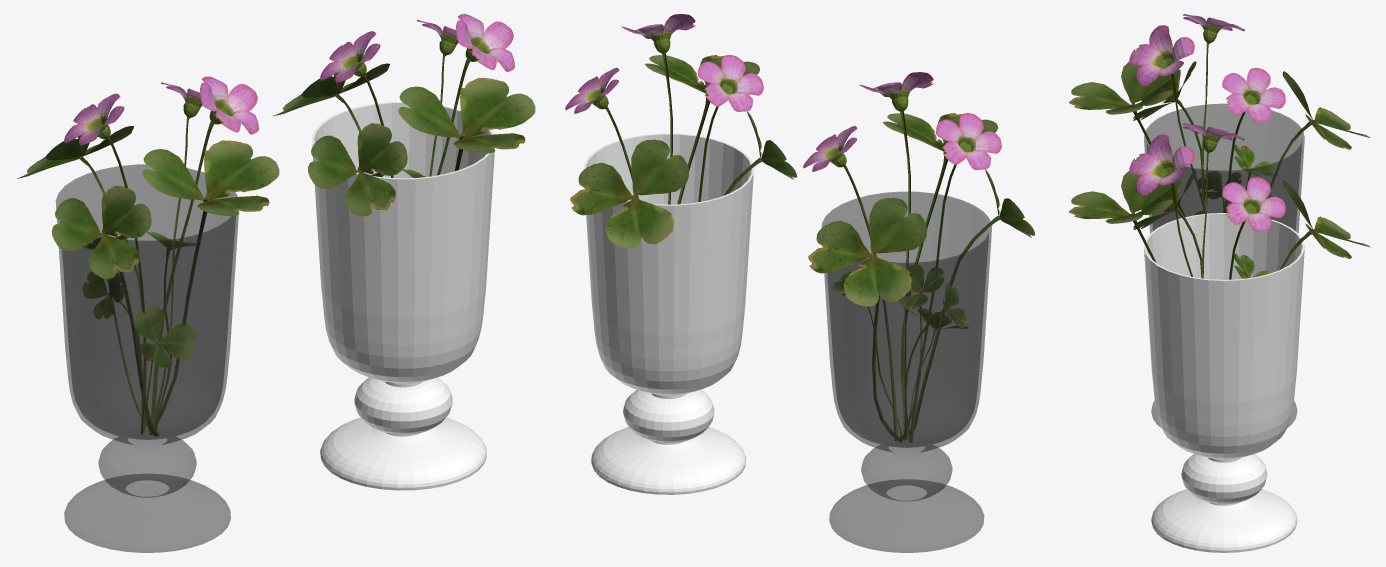
Rendered from GlassVaseFlowers.obj.
3 views of the same model, side by side, from view 1: azimuth 30°, elevation 25°; view 2: azimuth 150°, elevation 25°; view 3: azimuth 270°, elevation 25° (orthographic). The views are drawn at different scales.
Parts seen in each view (by area): view 1: GlassTransmission, GlassAlpha, Flowers; view 2: GlassTransmission, GlassAlpha, Flowers; view 3: GlassTransmission, Flowers, GlassAlpha.
Boxes of the visible parts, x1=… form: GlassTransmission: x1=311, y1=102, x2=494, y2=490; GlassAlpha: x1=55, y1=164, x2=238, y2=552; Flowers: x1=17, y1=14, x2=535, y2=436; GlassTransmission: x1=583, y1=133, x2=754, y2=494; GlassAlpha: x1=821, y1=191, x2=992, y2=552; Flowers: x1=565, y1=14, x2=1035, y2=443; GlassTransmission: x1=1144, y1=213, x2=1304, y2=552; Flowers: x1=1069, y1=14, x2=1370, y2=279; GlassAlpha: x1=1144, y1=103, x2=1304, y2=427.
Size of the model in its own units: 0.2173 by 0.2032 by 0.1425.
Materials: 3 (1 with a texture image).
